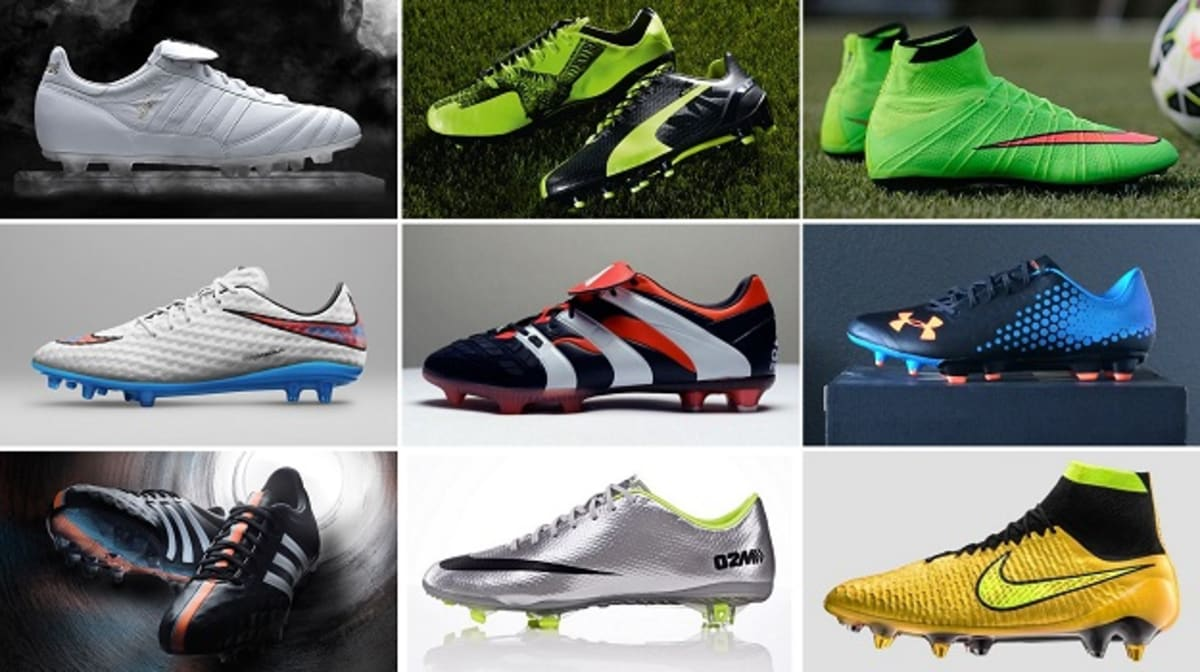football boots: (823, 461, 1181, 660), (416, 271, 778, 414), (416, 487, 775, 626), (866, 49, 1176, 198), (32, 40, 365, 178), (33, 278, 368, 405), (850, 261, 1158, 383), (426, 8, 674, 155), (540, 65, 775, 207), (159, 466, 317, 651), (48, 483, 223, 584)
